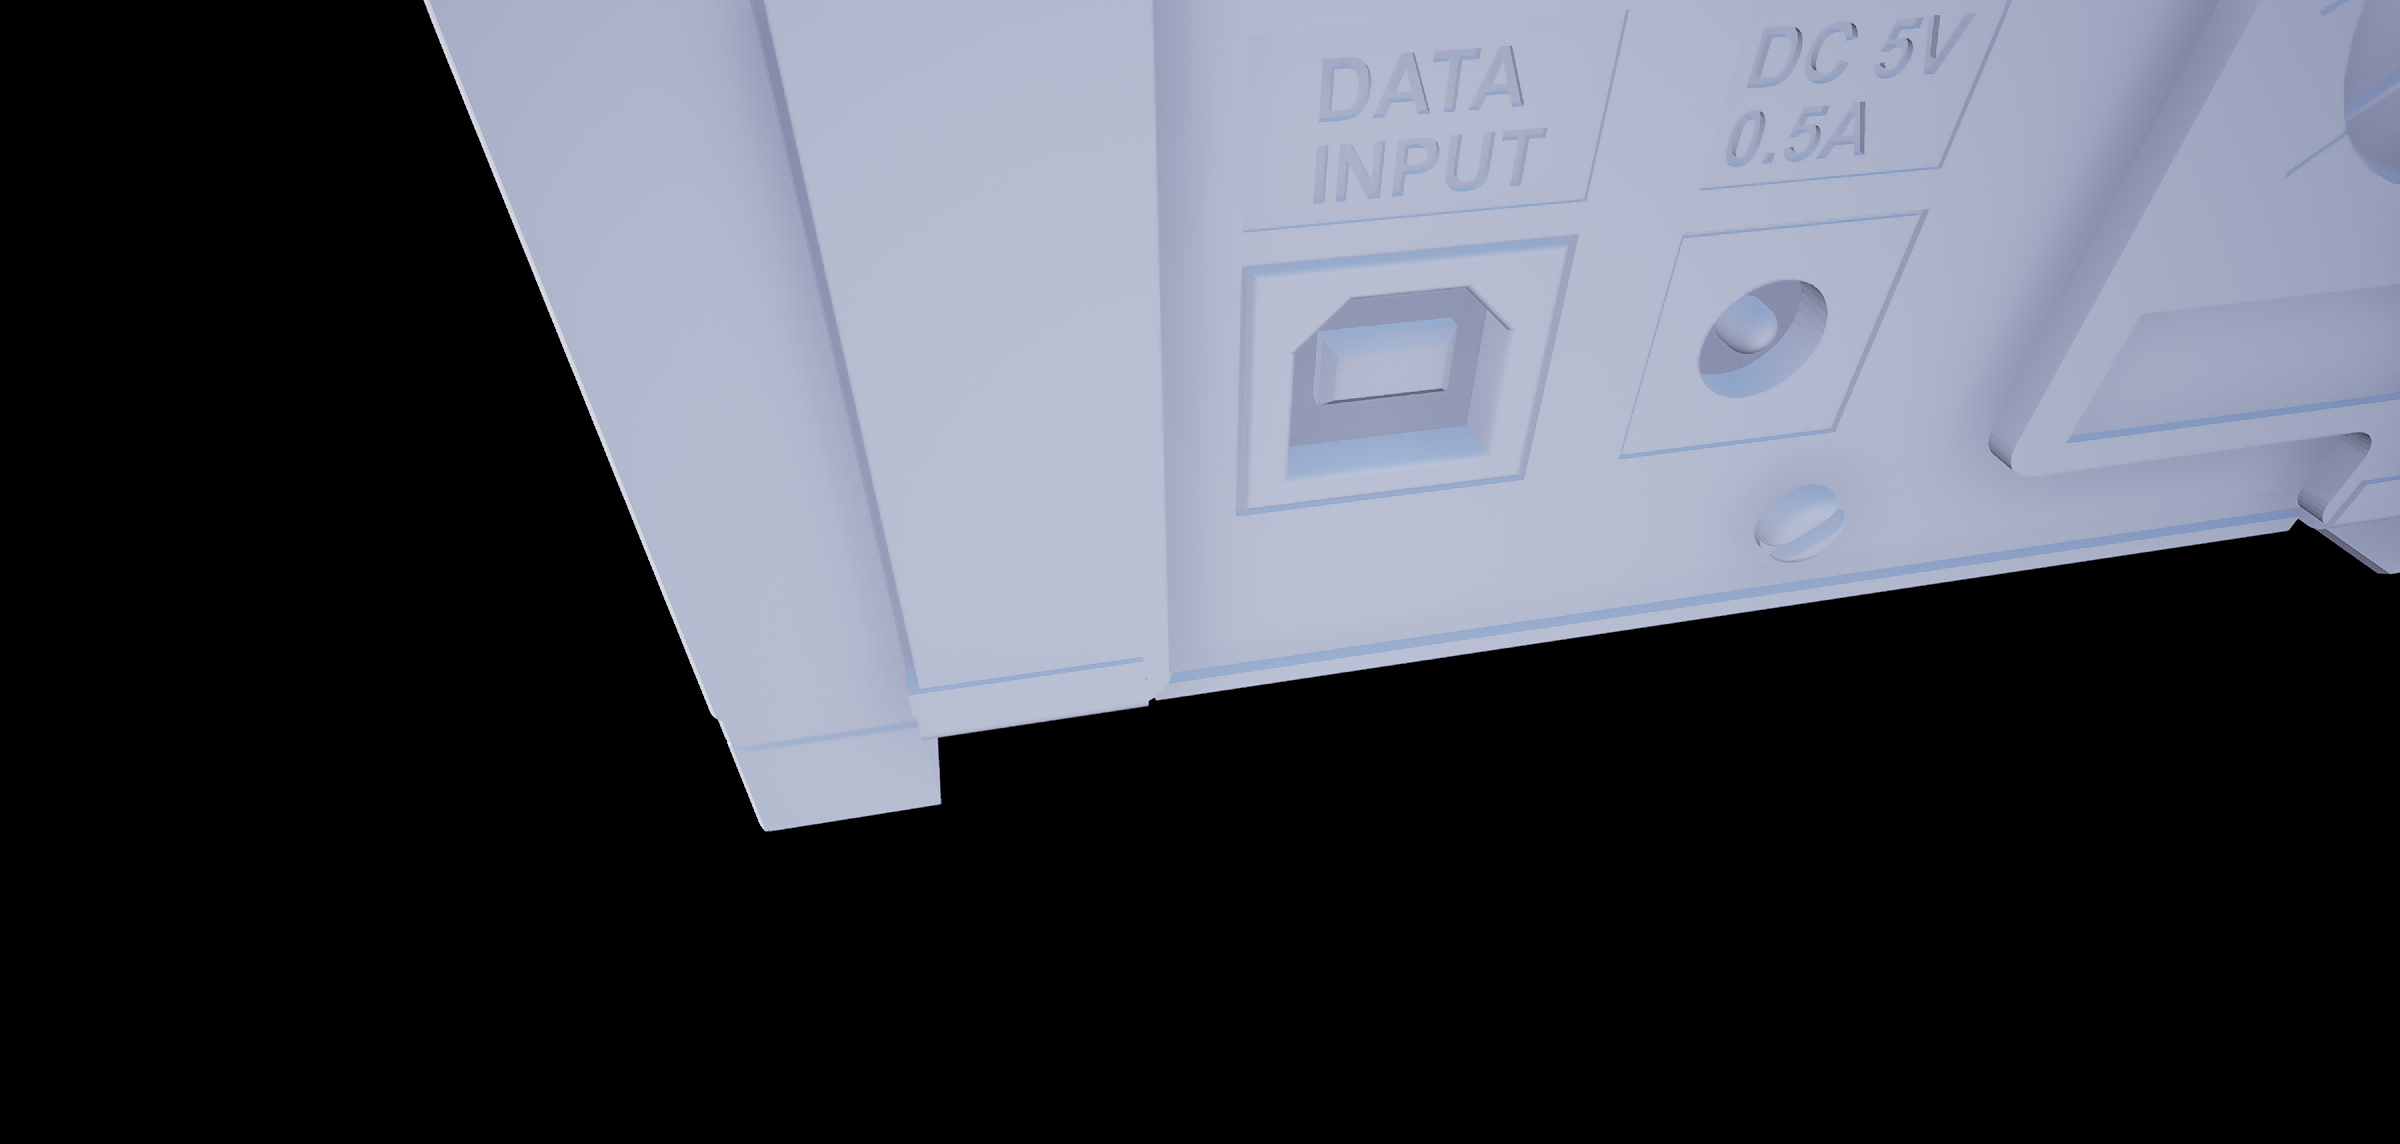dc: (1701, 268, 1832, 401)
usb: (1269, 286, 1521, 478)
